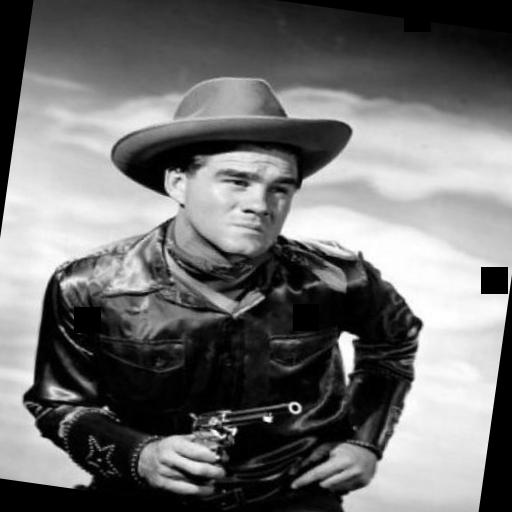Handgun: (174, 384, 305, 498)
